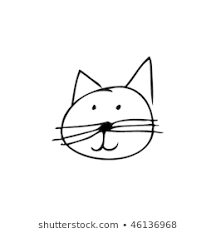cat: (57, 59, 159, 162)
